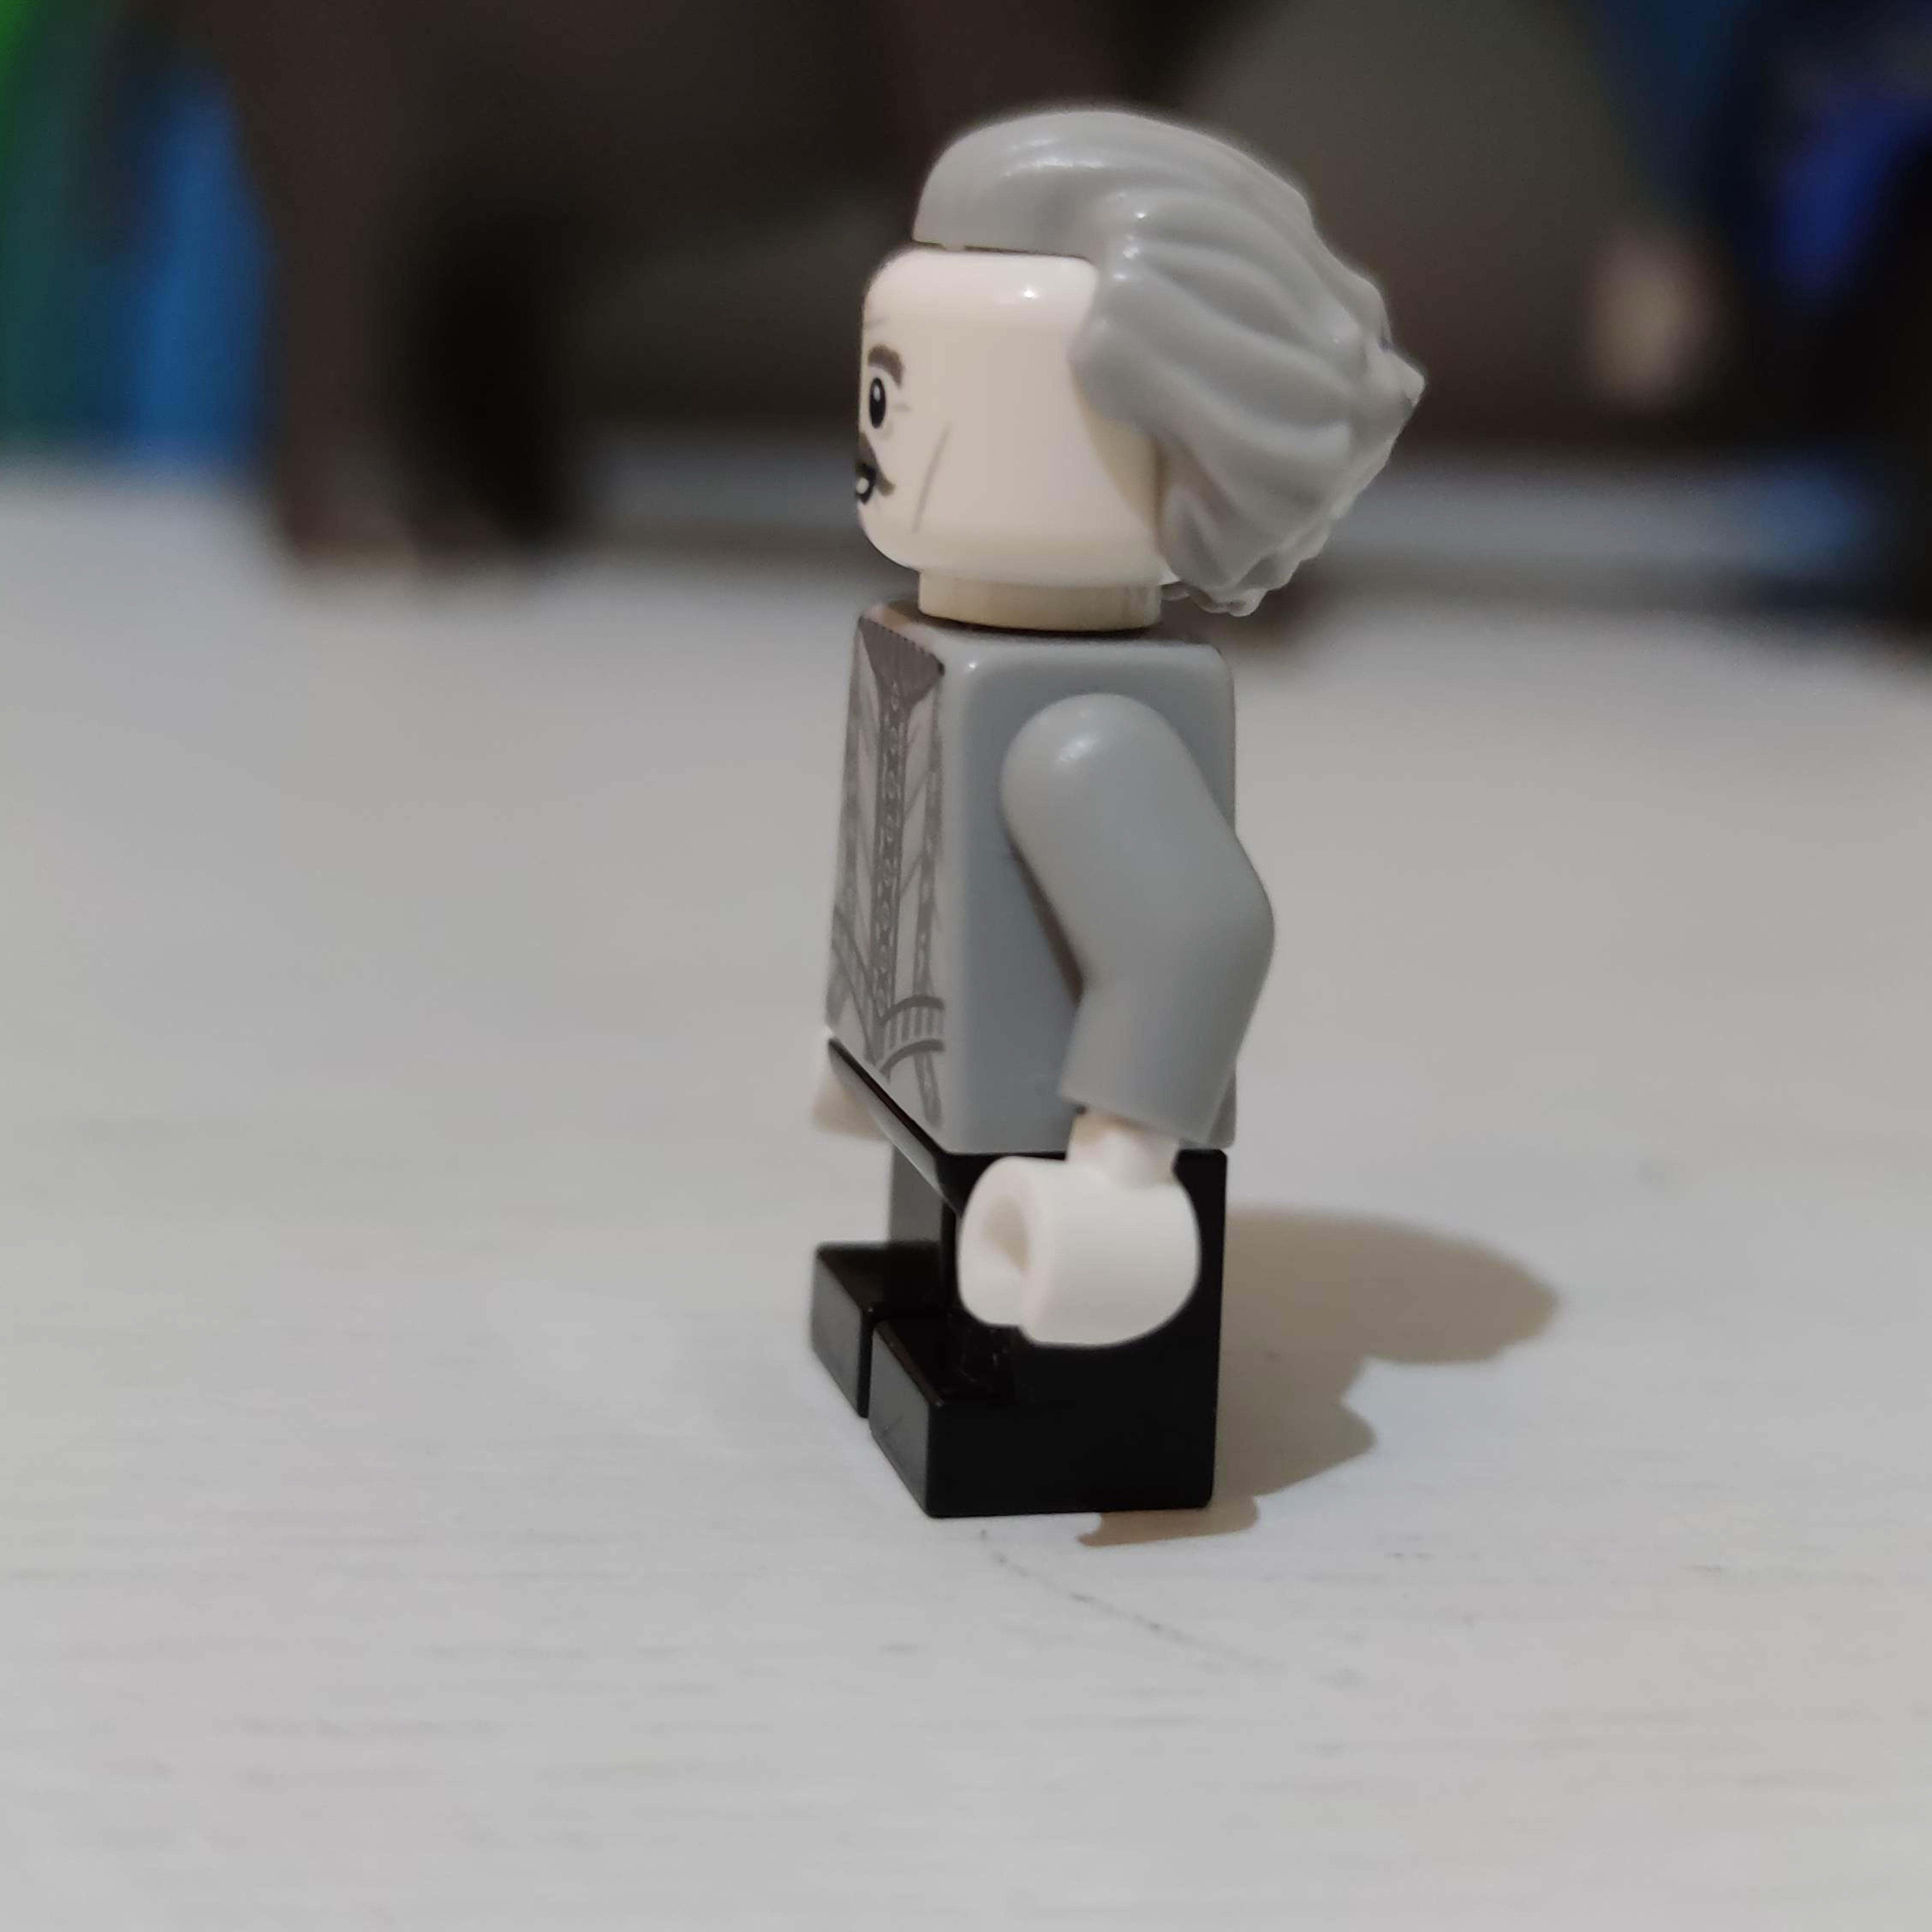lego: (809, 108, 1428, 1529)
